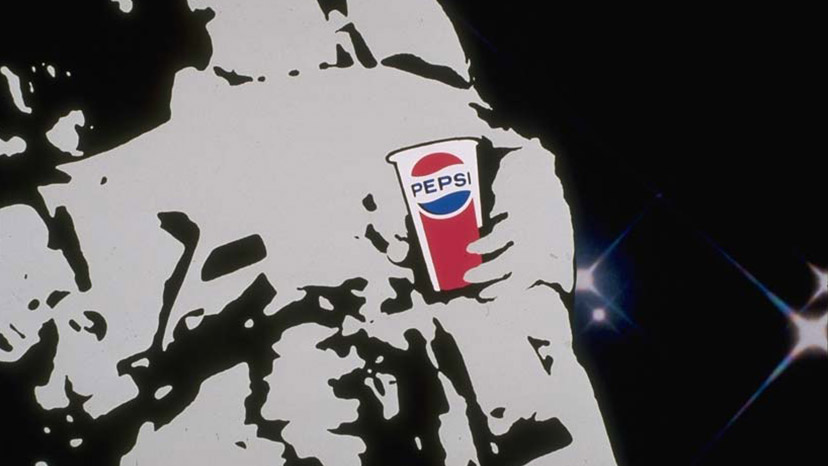pepsi: (411, 154, 471, 213)
